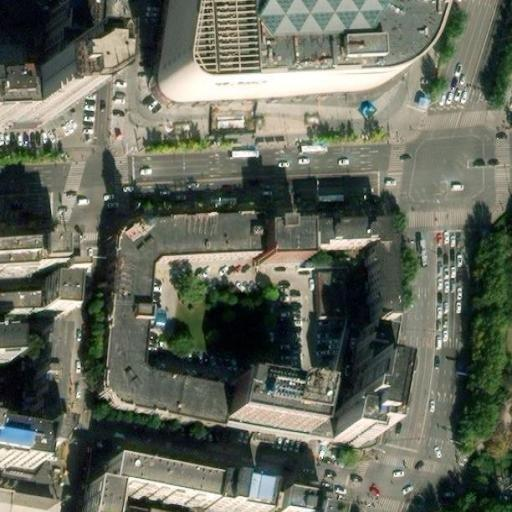building: (98, 214, 258, 424), (85, 444, 270, 512), (306, 215, 392, 300), (227, 386, 324, 449), (103, 457, 213, 506), (322, 373, 376, 448), (13, 72, 75, 132), (25, 335, 57, 437), (43, 20, 85, 72), (206, 479, 265, 512), (354, 331, 388, 379), (258, 231, 297, 271), (295, 481, 337, 512), (44, 286, 74, 317), (84, 481, 114, 512), (0, 324, 24, 357), (275, 489, 307, 512)
